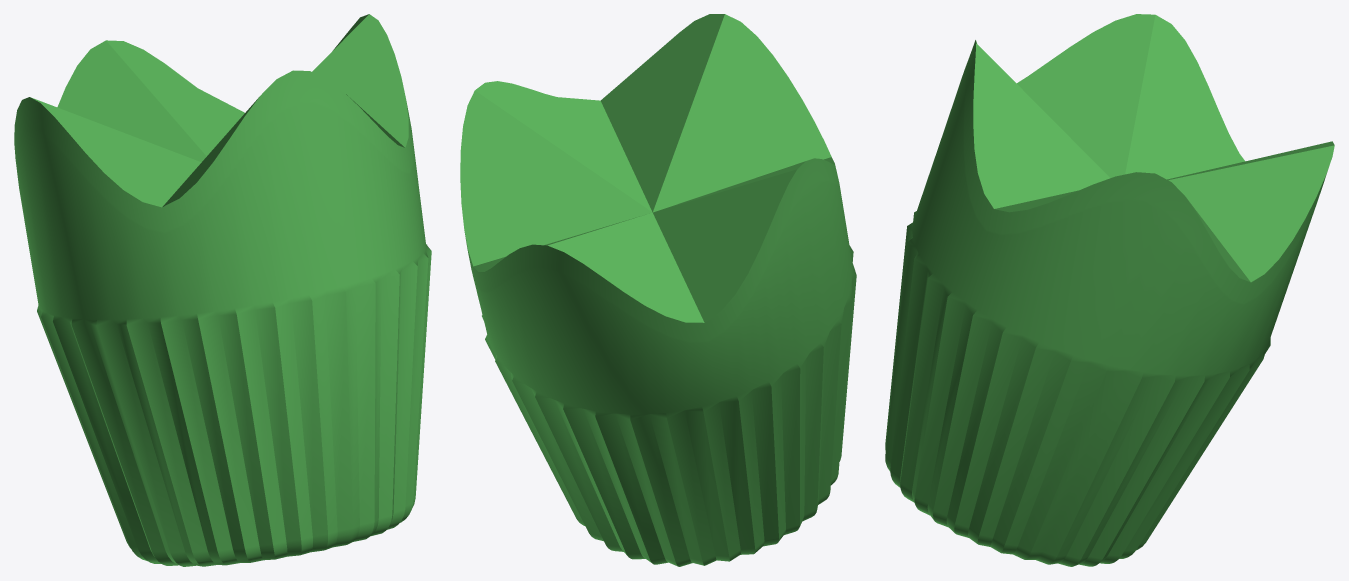
The model's file is Kue Mangkok Hijau.fbx.
3 renders of one model, left to right at view 1: azimuth 30°, elevation 25°; view 2: azimuth 150°, elevation 25°; view 3: azimuth 270°, elevation 25°, orthographic. The views are drawn at different scales.
Parts seen in each view (by area): view 1: Kue Mangkok Hijau; view 2: Kue Mangkok Hijau; view 3: Kue Mangkok Hijau.
Part boxes in pixels (x1=…): Kue Mangkok Hijau: x1=14, y1=14, x2=431, y2=566; Kue Mangkok Hijau: x1=460, y1=14, x2=856, y2=566; Kue Mangkok Hijau: x1=885, y1=14, x2=1334, y2=566.
Bounding box in the file's own units: 475 × 681 × 560.
